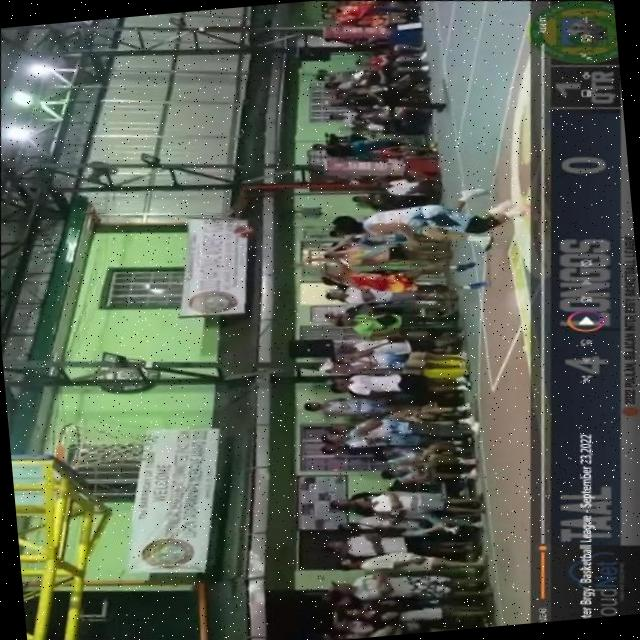ball: (230, 222, 256, 240)
hoop: (52, 417, 87, 472)
